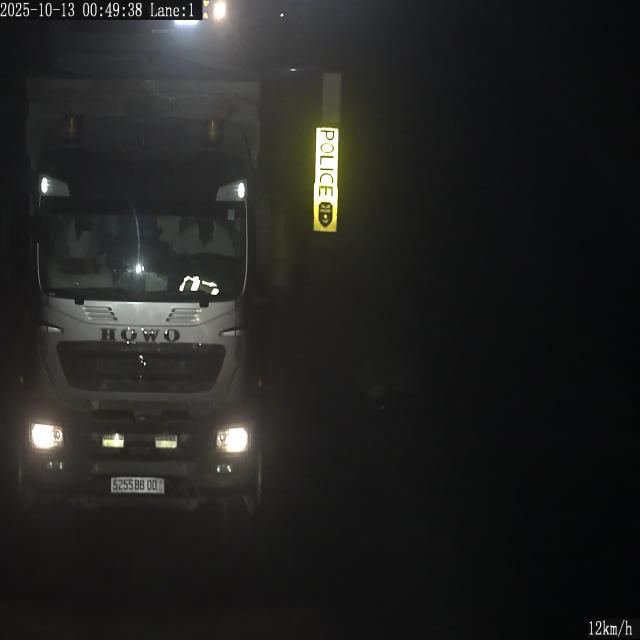BUS: (111, 478, 164, 494)
